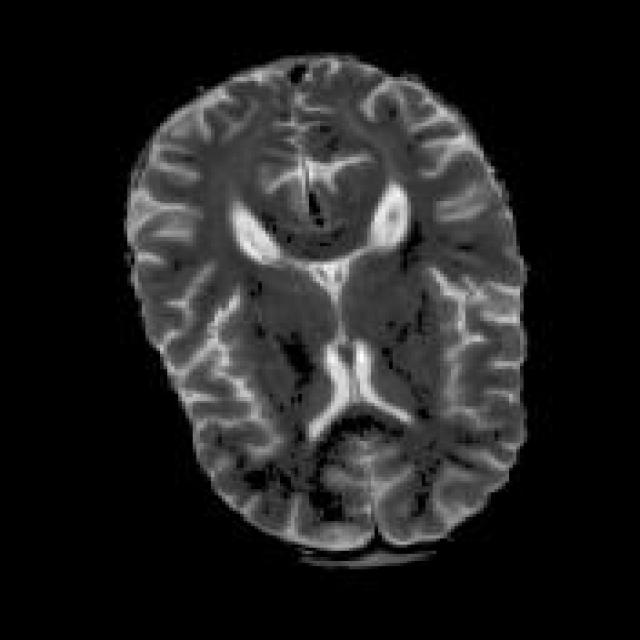CONTROL: (120, 49, 531, 569)
